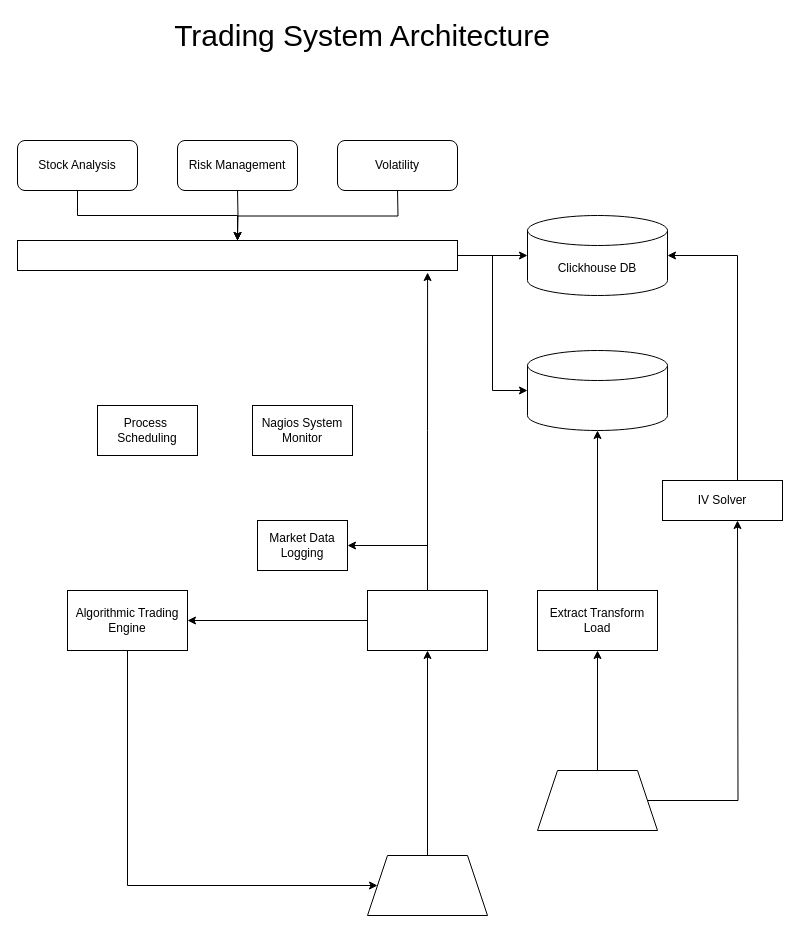
The diagram is 800 pixels wide and 933 high, and some of its shapes have lost their labels. Each missing label, with the centre of its shape:
Broker: (427,885)
Market Data Server: (427,620)
MySQL DB: (597,390)
Reference Data Providers: (597,800)
REST API / WebSockets: (237,255)
